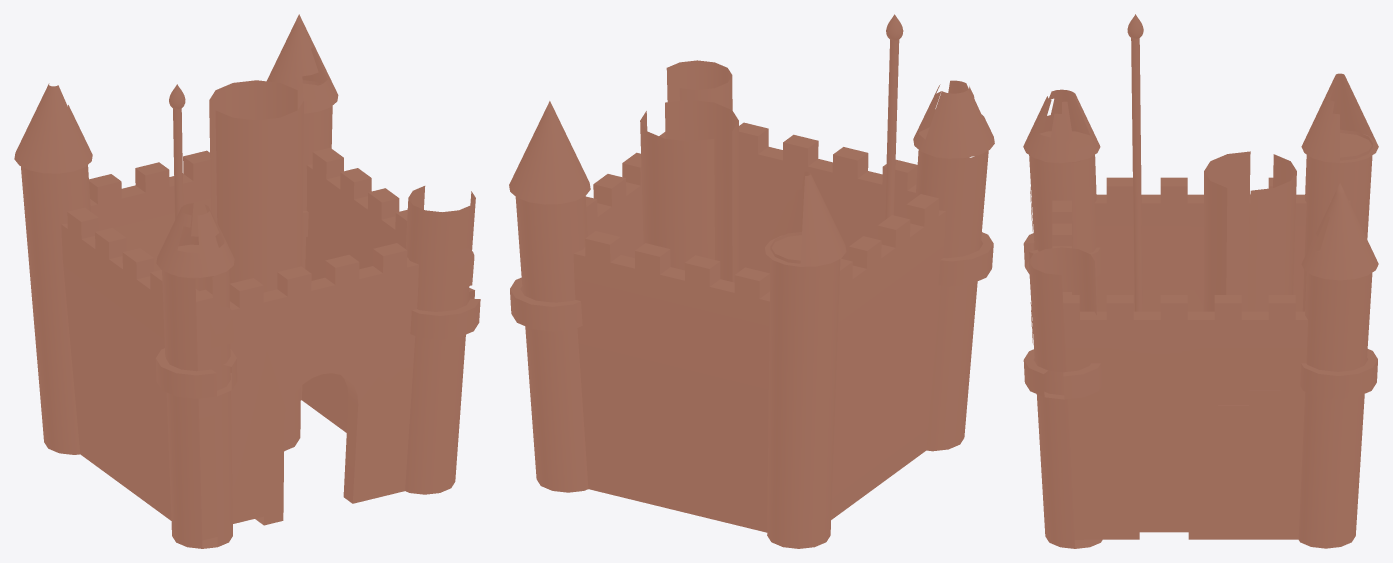
The model's file is castle1.fbx.
3 renders of one model, left to right at view 1: azimuth 30°, elevation 25°; view 2: azimuth 150°, elevation 25°; view 3: azimuth 270°, elevation 25°, orthographic. The views are drawn at different scales.
Parts seen in each view (by area): view 1: castle1; view 2: castle1; view 3: castle1.
Part boxes in pixels (<box>): castle1: <box>14,14,480,548</box>; castle1: <box>509,14,994,548</box>; castle1: <box>1023,14,1378,548</box>.
Size of the model in its own units: 287 by 373 by 287.
